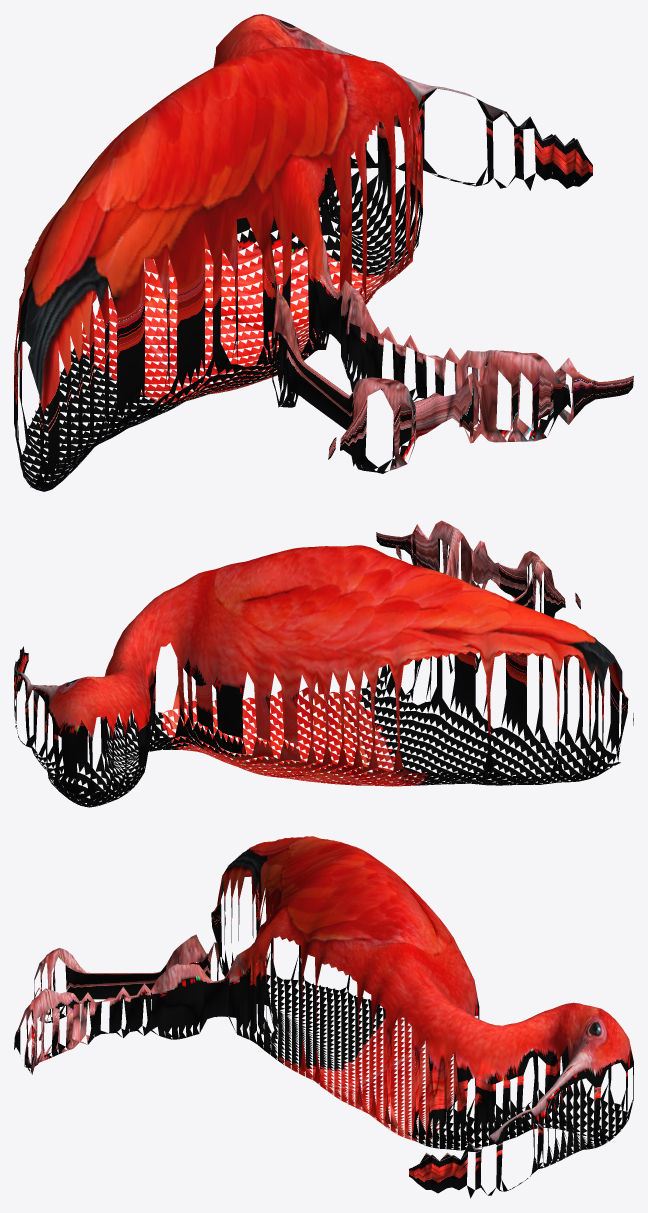
Rendered from ibis.glb.
The picture shows the model from 3 angles, top to bottom: view 1: azimuth 30°, elevation 25°; view 2: azimuth 150°, elevation 25°; view 3: azimuth 270°, elevation 25°; orthographic projection. The views are drawn at different scales.
Visible parts, largest first — view 1: ibis_obj; view 2: ibis_obj; view 3: ibis_obj.
Boxes of the visible parts, x1,y1,x2,y2 form: ibis_obj: (14,14,633,491); ibis_obj: (14,520,633,807); ibis_obj: (14,836,633,1198).
Bounding box in the file's own units: 1.79 × 0.7792 × 1.84.
1 material, 1 textured.
